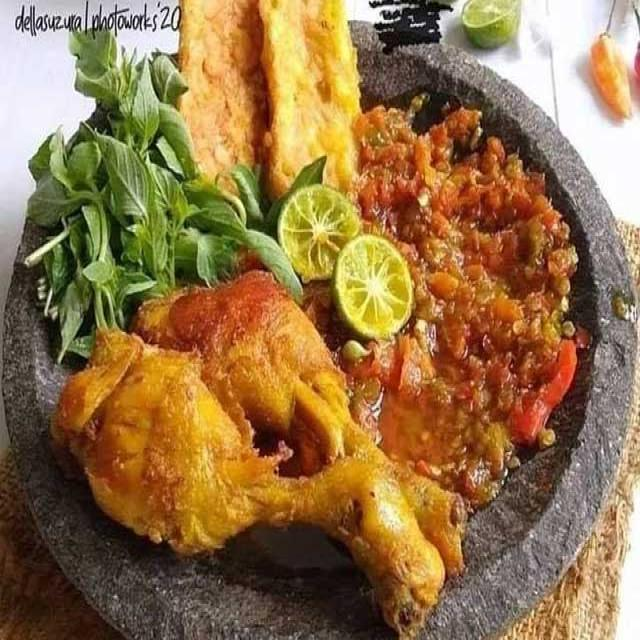Frango: (53, 329, 442, 632), (137, 282, 462, 570), (268, 2, 360, 202), (185, 0, 264, 211)
